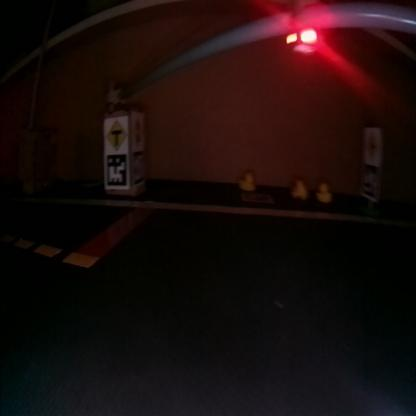Duckie: (292, 180, 309, 198), (240, 171, 257, 188), (318, 183, 334, 201)
Intersection sign: (107, 117, 128, 151), (364, 127, 380, 160)
QR code: (106, 154, 130, 188), (364, 164, 380, 200), (134, 151, 145, 184), (242, 192, 274, 202)
Signal sign: (132, 112, 144, 146)
